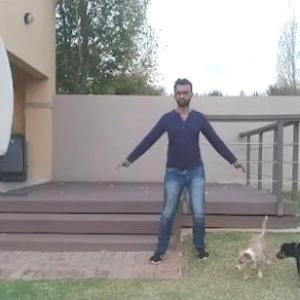land: (100, 87, 246, 252)
